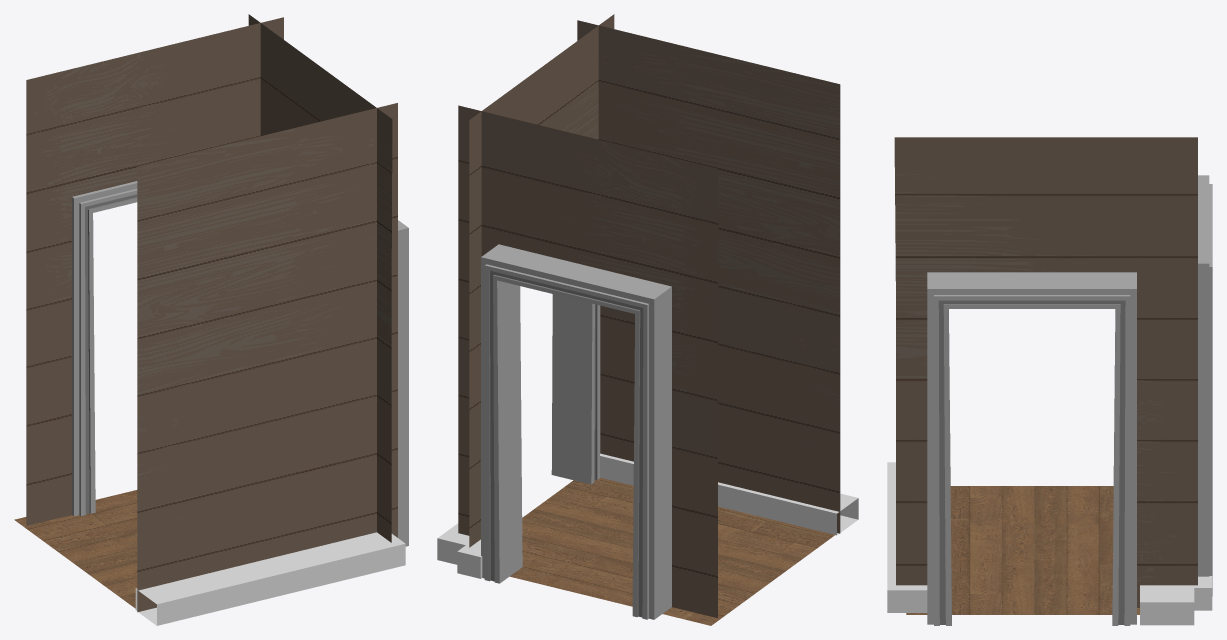
Rendered from corridor_end.gltf.
The picture shows the model from 3 angles, left to right: view 1: azimuth 30°, elevation 25°; view 2: azimuth 150°, elevation 25°; view 3: azimuth 270°, elevation 25°; orthographic projection. The views are drawn at different scales.
Visible parts, largest first — view 1: Wall Standard (Corner) Alt.006, Wall Standard (Door).011, Wall Standard (Door).012, Wall Standard (Corner) Border.011, Door Frame 2.010, Plane.008, Door Frame 2.011; view 2: Wall Standard (Corner) Alt.006, Wall Standard (Door).011, Door Frame 2.010, Plane.008, Wall Standard (Door).012, Door Frame 2.011, Wall Standard (Corner) Border.011, Wall Standard Border.007, Wall Standard Border.008; view 3: Wall Standard (Door).012, Door Frame 2.011, Plane.008, Door Frame 2.010, Wall Standard (Corner) Border.011, Wall Standard Border.007, Wall Standard Border.008.
Boxes of the visible parts, x1,y1,x2,y2 form: Wall Standard (Corner) Alt.006: (137, 103, 397, 612); Wall Standard (Door).011: (26, 17, 283, 525); Wall Standard (Door).012: (248, 14, 392, 542); Wall Standard (Corner) Border.011: (135, 532, 405, 625); Door Frame 2.010: (72, 181, 137, 516); Plane.008: (14, 490, 137, 608); Door Frame 2.011: (398, 220, 408, 546); Wall Standard (Corner) Alt.006: (577, 20, 840, 533); Wall Standard (Door).011: (458, 105, 717, 618); Door Frame 2.010: (481, 244, 671, 619); Plane.008: (510, 477, 834, 625); Wall Standard (Door).012: (469, 14, 614, 547); Door Frame 2.011: (551, 294, 600, 484); Wall Standard (Corner) Border.011: (600, 453, 858, 535); Wall Standard Border.007: (437, 523, 480, 564); Wall Standard Border.008: (457, 543, 482, 578); Wall Standard (Door).012: (894, 137, 1197, 607); Door Frame 2.011: (927, 272, 1136, 625); Plane.008: (906, 486, 1139, 614); Door Frame 2.010: (1198, 175, 1212, 596); Wall Standard (Corner) Border.011: (887, 462, 927, 612); Wall Standard Border.007: (1140, 585, 1194, 625); Wall Standard Border.008: (1167, 576, 1212, 610).
Bounding box in the file's own units: 1.93 × 3 × 1.88.
3 materials, 3 textured.
